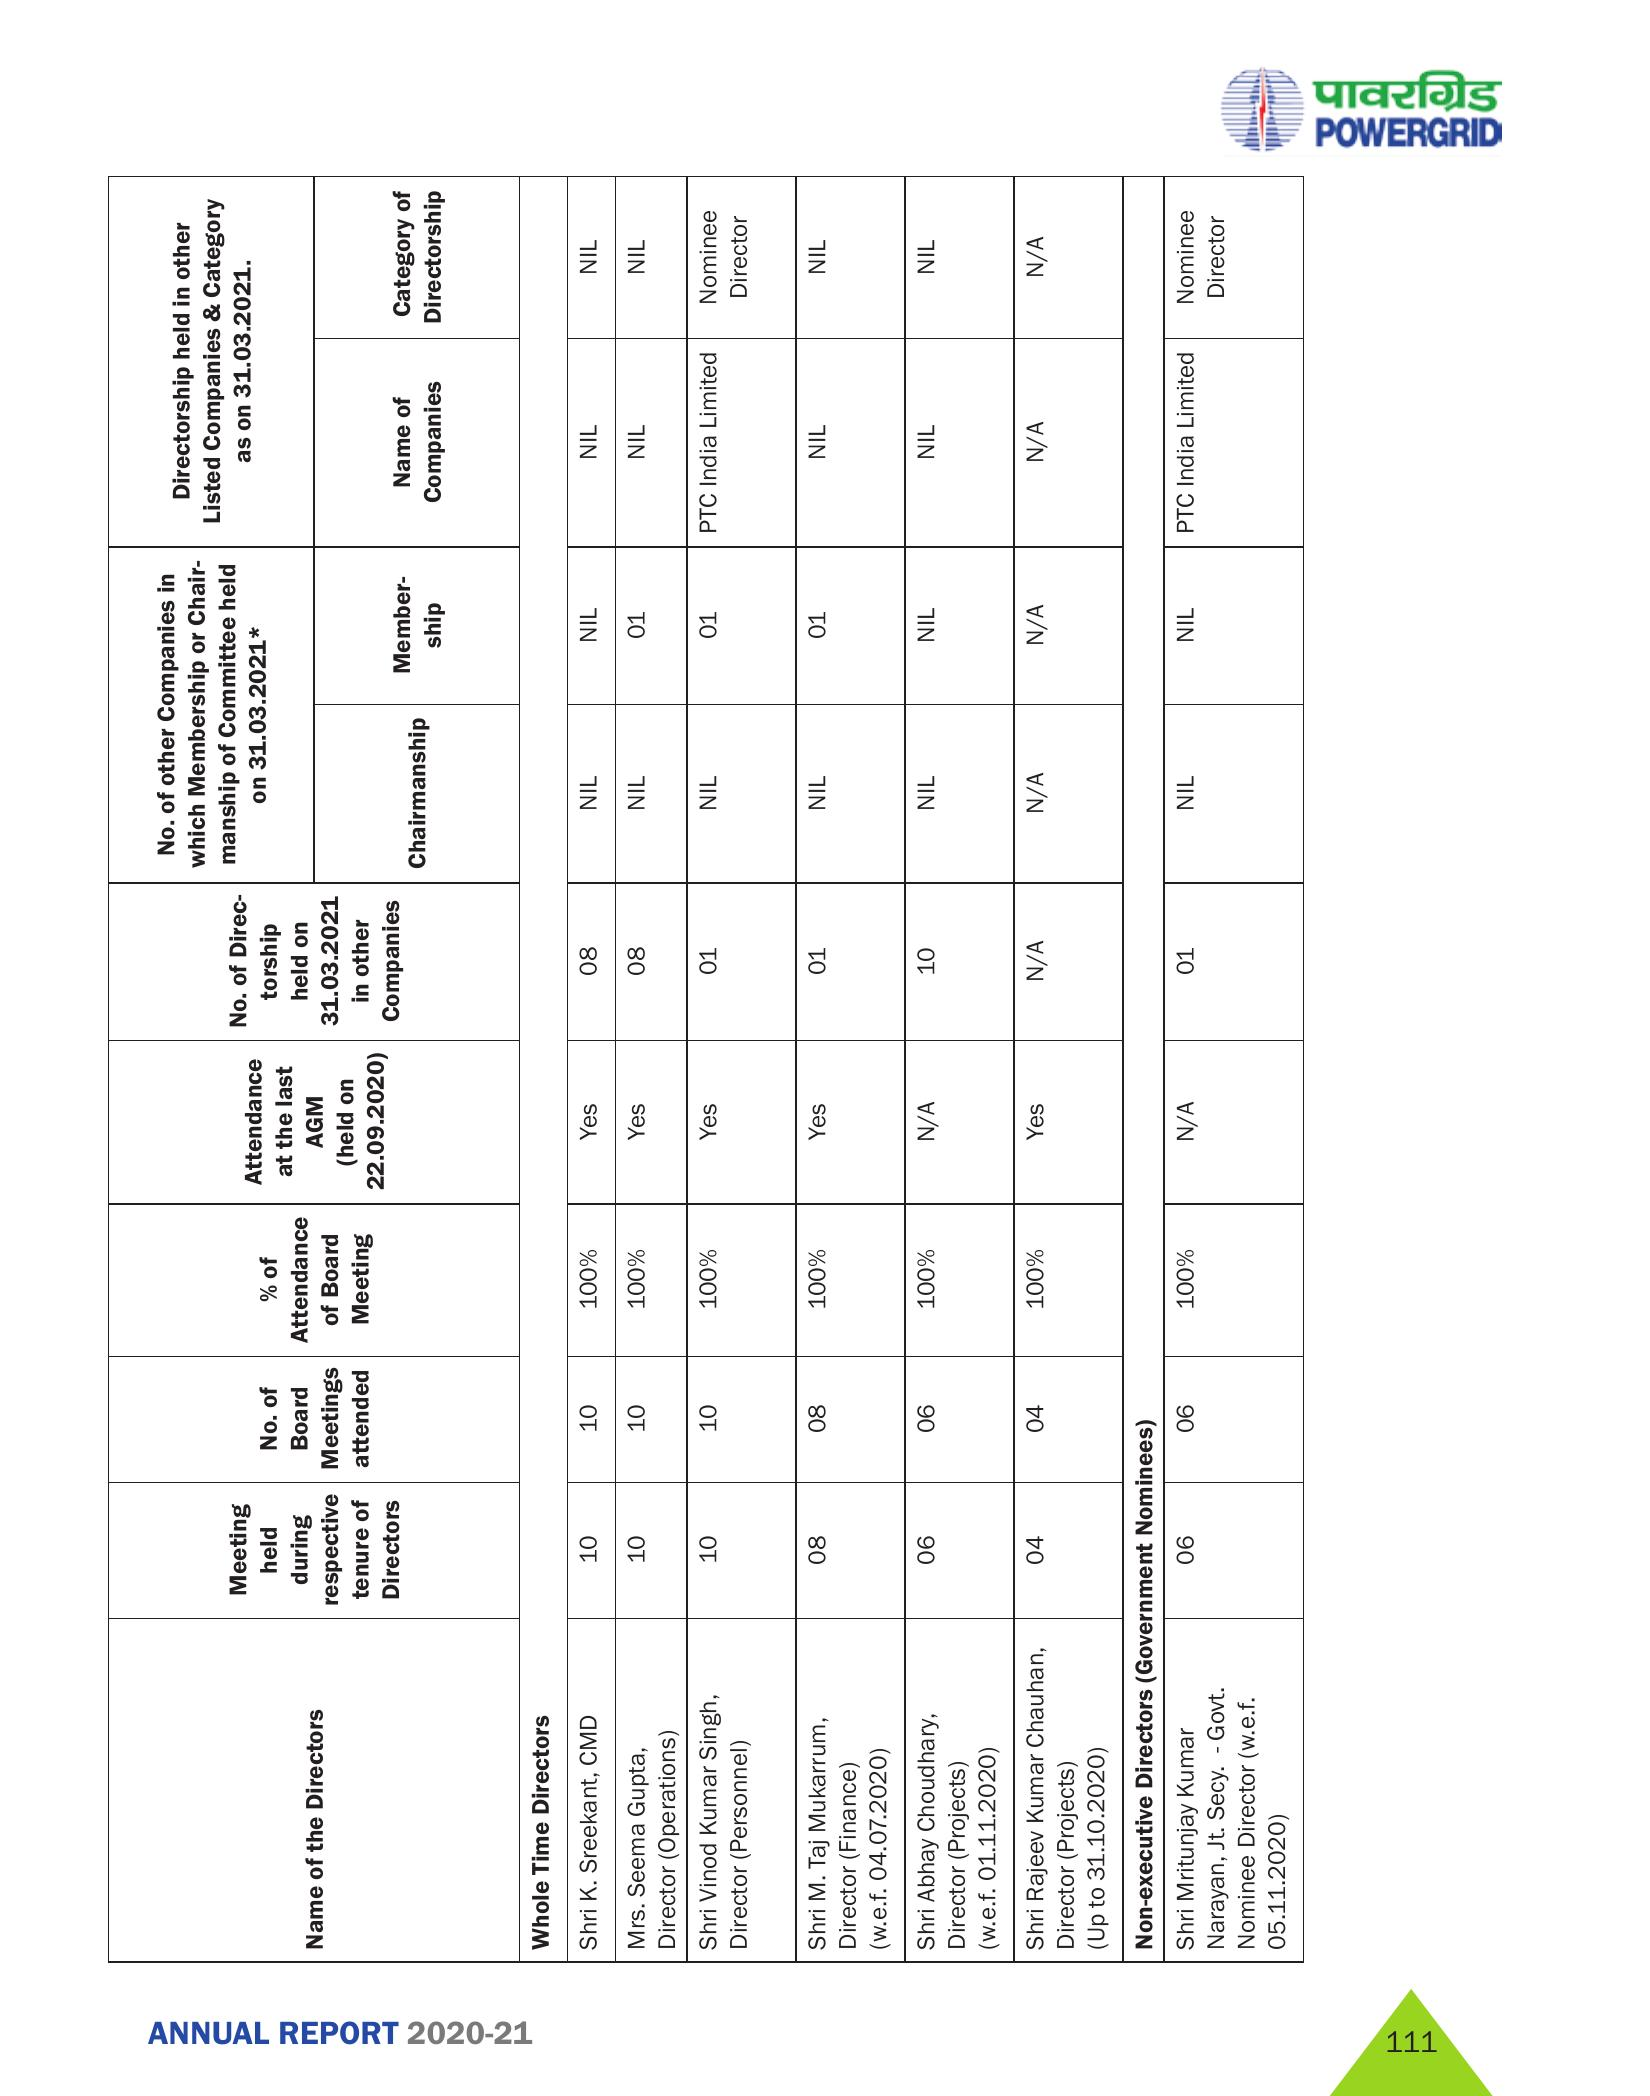Footer: (0, 1974, 1650, 2096)
Header: (0, 0, 1650, 155)
Table: (82, 172, 1385, 1962)
